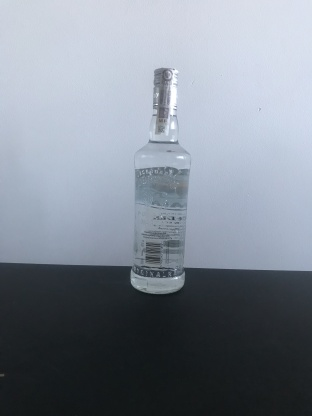nakretka: (150, 62, 181, 111)
